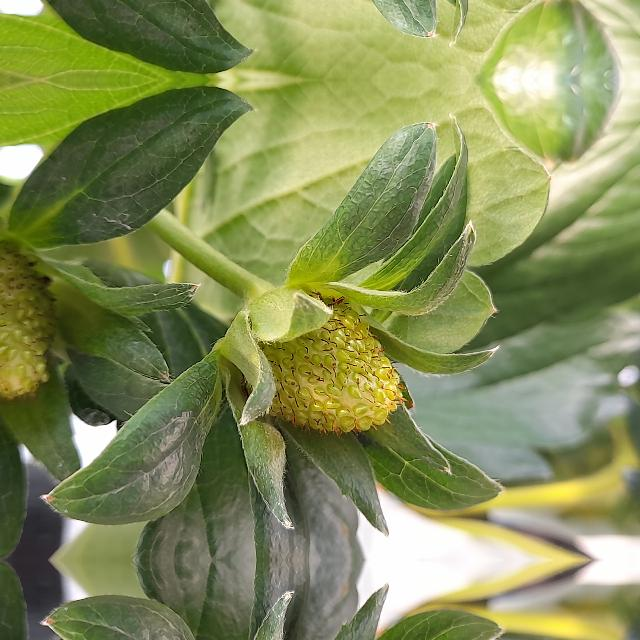Health_25: (239, 288, 407, 436)
